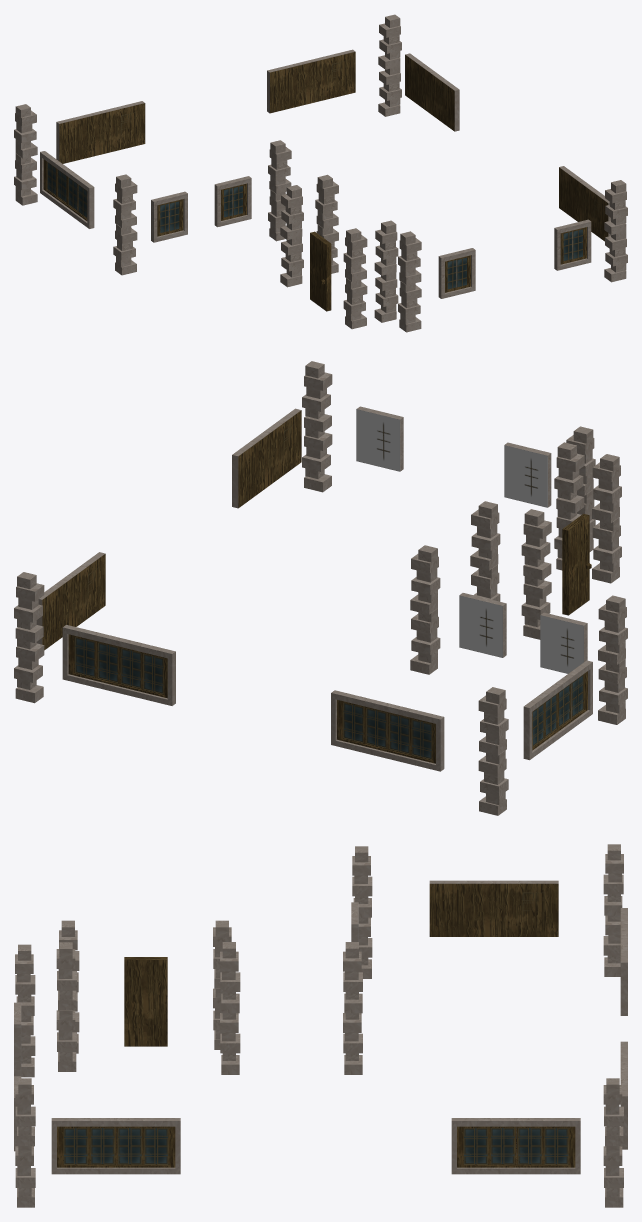
Rendered from GMTK2024_Tavern_CobbleWallEtc.fbx.
3 views of the same model, one above another, from view 1: azimuth 30°, elevation 25°; view 2: azimuth 150°, elevation 25°; view 3: azimuth 270°, elevation 25° (orthographic). The views are drawn at different scales.
Visible parts, largest first — view 1: Object1432; view 2: Object1432; view 3: Object1432.
Part boxes in pixels (x1,y1,x2,y2): Object1432: [14, 14, 627, 332]; Object1432: [14, 361, 627, 815]; Object1432: [14, 844, 627, 1207].
Size of the model in its own units: 90.27 by 21.46 by 96.96.
